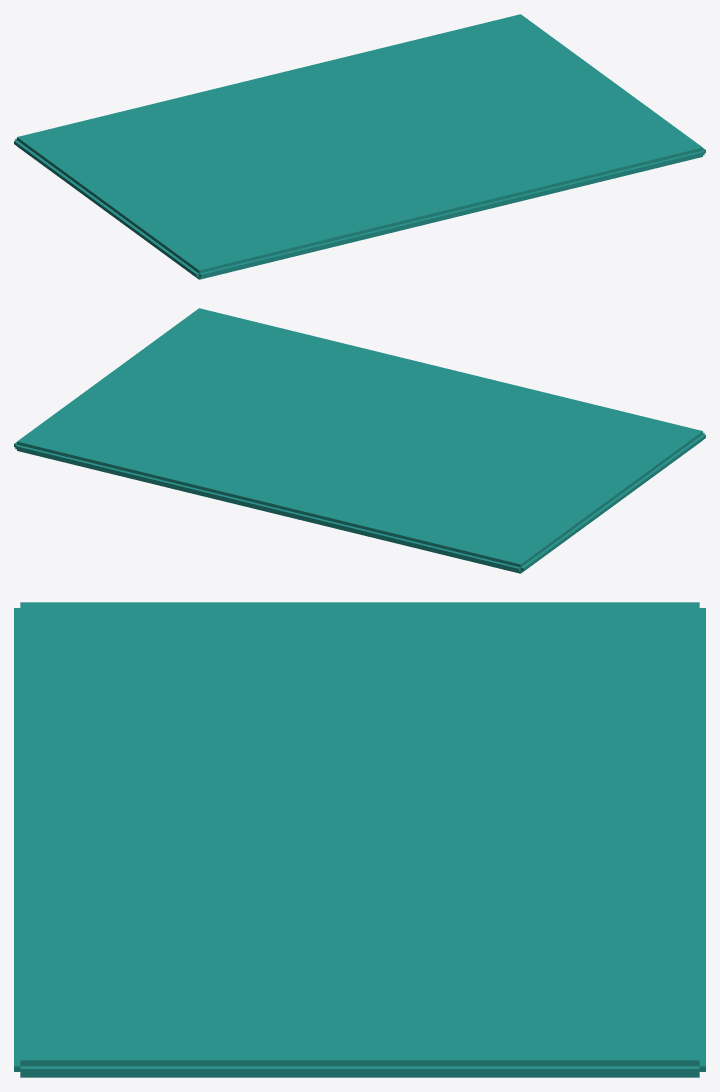
The model's file is SM_NEXO_TransitCard.fbx.
3 views of the same model, one above another, from view 1: azimuth 30°, elevation 25°; view 2: azimuth 150°, elevation 25°; view 3: azimuth 270°, elevation 25° (orthographic). The views are drawn at different scales.
Parts seen in each view (by area): view 1: SM_NEXO_TransitCard; view 2: SM_NEXO_TransitCard; view 3: SM_NEXO_TransitCard.
Part boxes in pixels (x1,y1,x2,y2): SM_NEXO_TransitCard: (14,14,705,279); SM_NEXO_TransitCard: (14,308,705,573); SM_NEXO_TransitCard: (14,602,705,1077).
Size of the model in its own units: 0.0856 by 0.054 by 0.0015.
